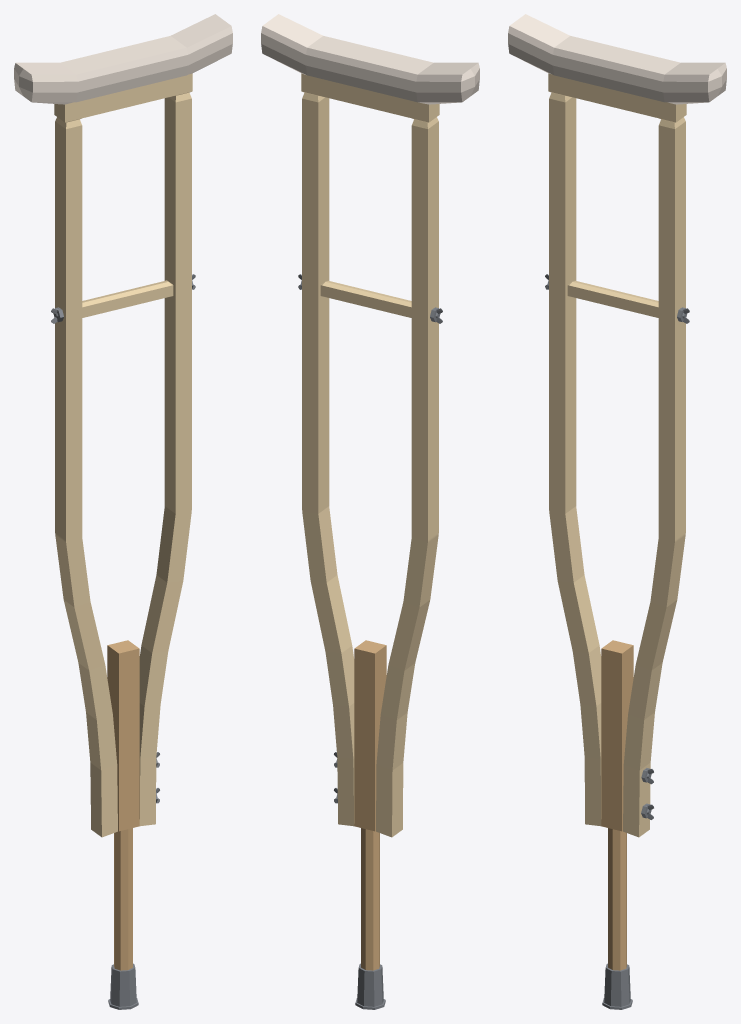
The model's file is mdl_crutch.fbx.
The picture shows the model from 3 angles, left to right: view 1: azimuth 30°, elevation 25°; view 2: azimuth 150°, elevation 25°; view 3: azimuth 330°, elevation 25°; orthographic projection.
Parts seen in each view (by area): view 1: Cylinder.002; view 2: Cylinder.002; view 3: Cylinder.002.
Part boxes in pixels (x1,y1,x2,y2): Cylinder.002: (14, 14, 232, 1009); Cylinder.002: (261, 14, 479, 1009); Cylinder.002: (508, 14, 726, 1009).
Size of the model in its own units: 17.77 by 77.92 by 2.76.
